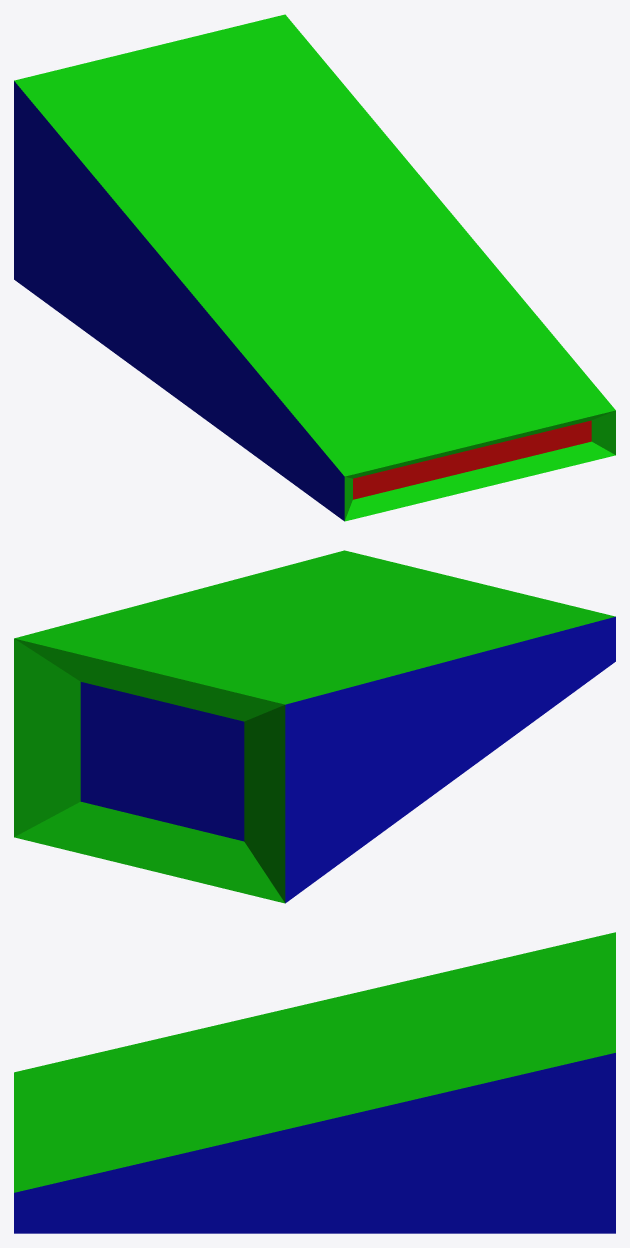
Rendered from silly_ship.obj.
3 views of the same model, one above another, from view 1: azimuth 30°, elevation 25°; view 2: azimuth 150°, elevation 25°; view 3: azimuth 270°, elevation 25° (orthographic). The views are drawn at different scales.
Visible parts, largest first — view 1: Cube; view 2: Cube; view 3: Cube.
Part boxes in pixels (x1=…): Cube: x1=14, y1=14, x2=615, y2=521; Cube: x1=14, y1=550, x2=615, y2=903; Cube: x1=14, y1=932, x2=615, y2=1233.
Size of the model in its own units: 2.85 by 2 by 6.03.
